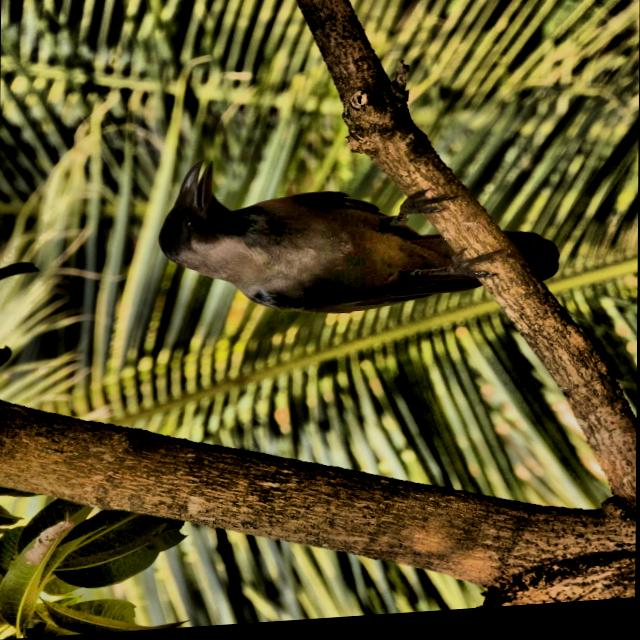crow: (146, 147, 565, 377)
